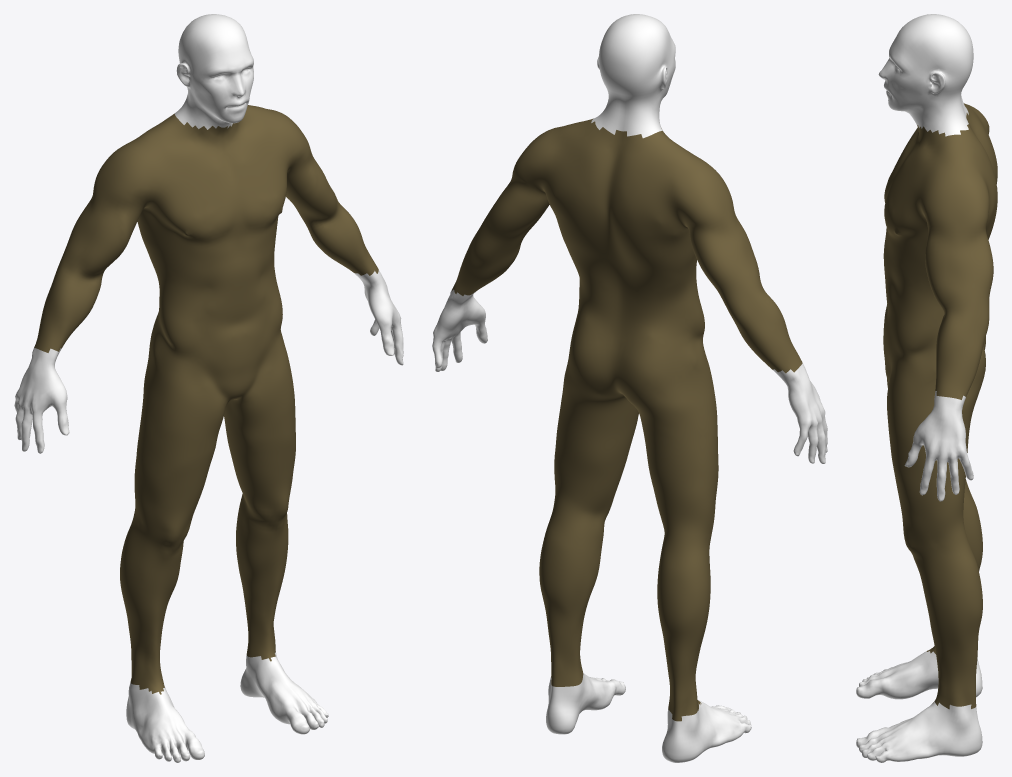
Rendered from male3.dae.
The picture shows the model from 3 angles, left to right: view 1: azimuth 30°, elevation 25°; view 2: azimuth 150°, elevation 25°; view 3: azimuth 270°, elevation 25°; orthographic projection.
Visible parts, largest first — view 1: FinalBaseMesh.001, FinalBaseMesh.003; view 2: FinalBaseMesh.001, FinalBaseMesh.003; view 3: FinalBaseMesh.001, FinalBaseMesh.003.
Part boxes in pixels (bbox=[...]): FinalBaseMesh.001: bbox=[34, 105, 378, 694]; FinalBaseMesh.003: bbox=[14, 14, 403, 762]; FinalBaseMesh.001: bbox=[452, 118, 802, 721]; FinalBaseMesh.003: bbox=[432, 14, 827, 762]; FinalBaseMesh.001: bbox=[883, 103, 997, 709]; FinalBaseMesh.003: bbox=[856, 14, 982, 762].
Bounding box in the file's own units: 11.69 × 3.77 × 20.74.
